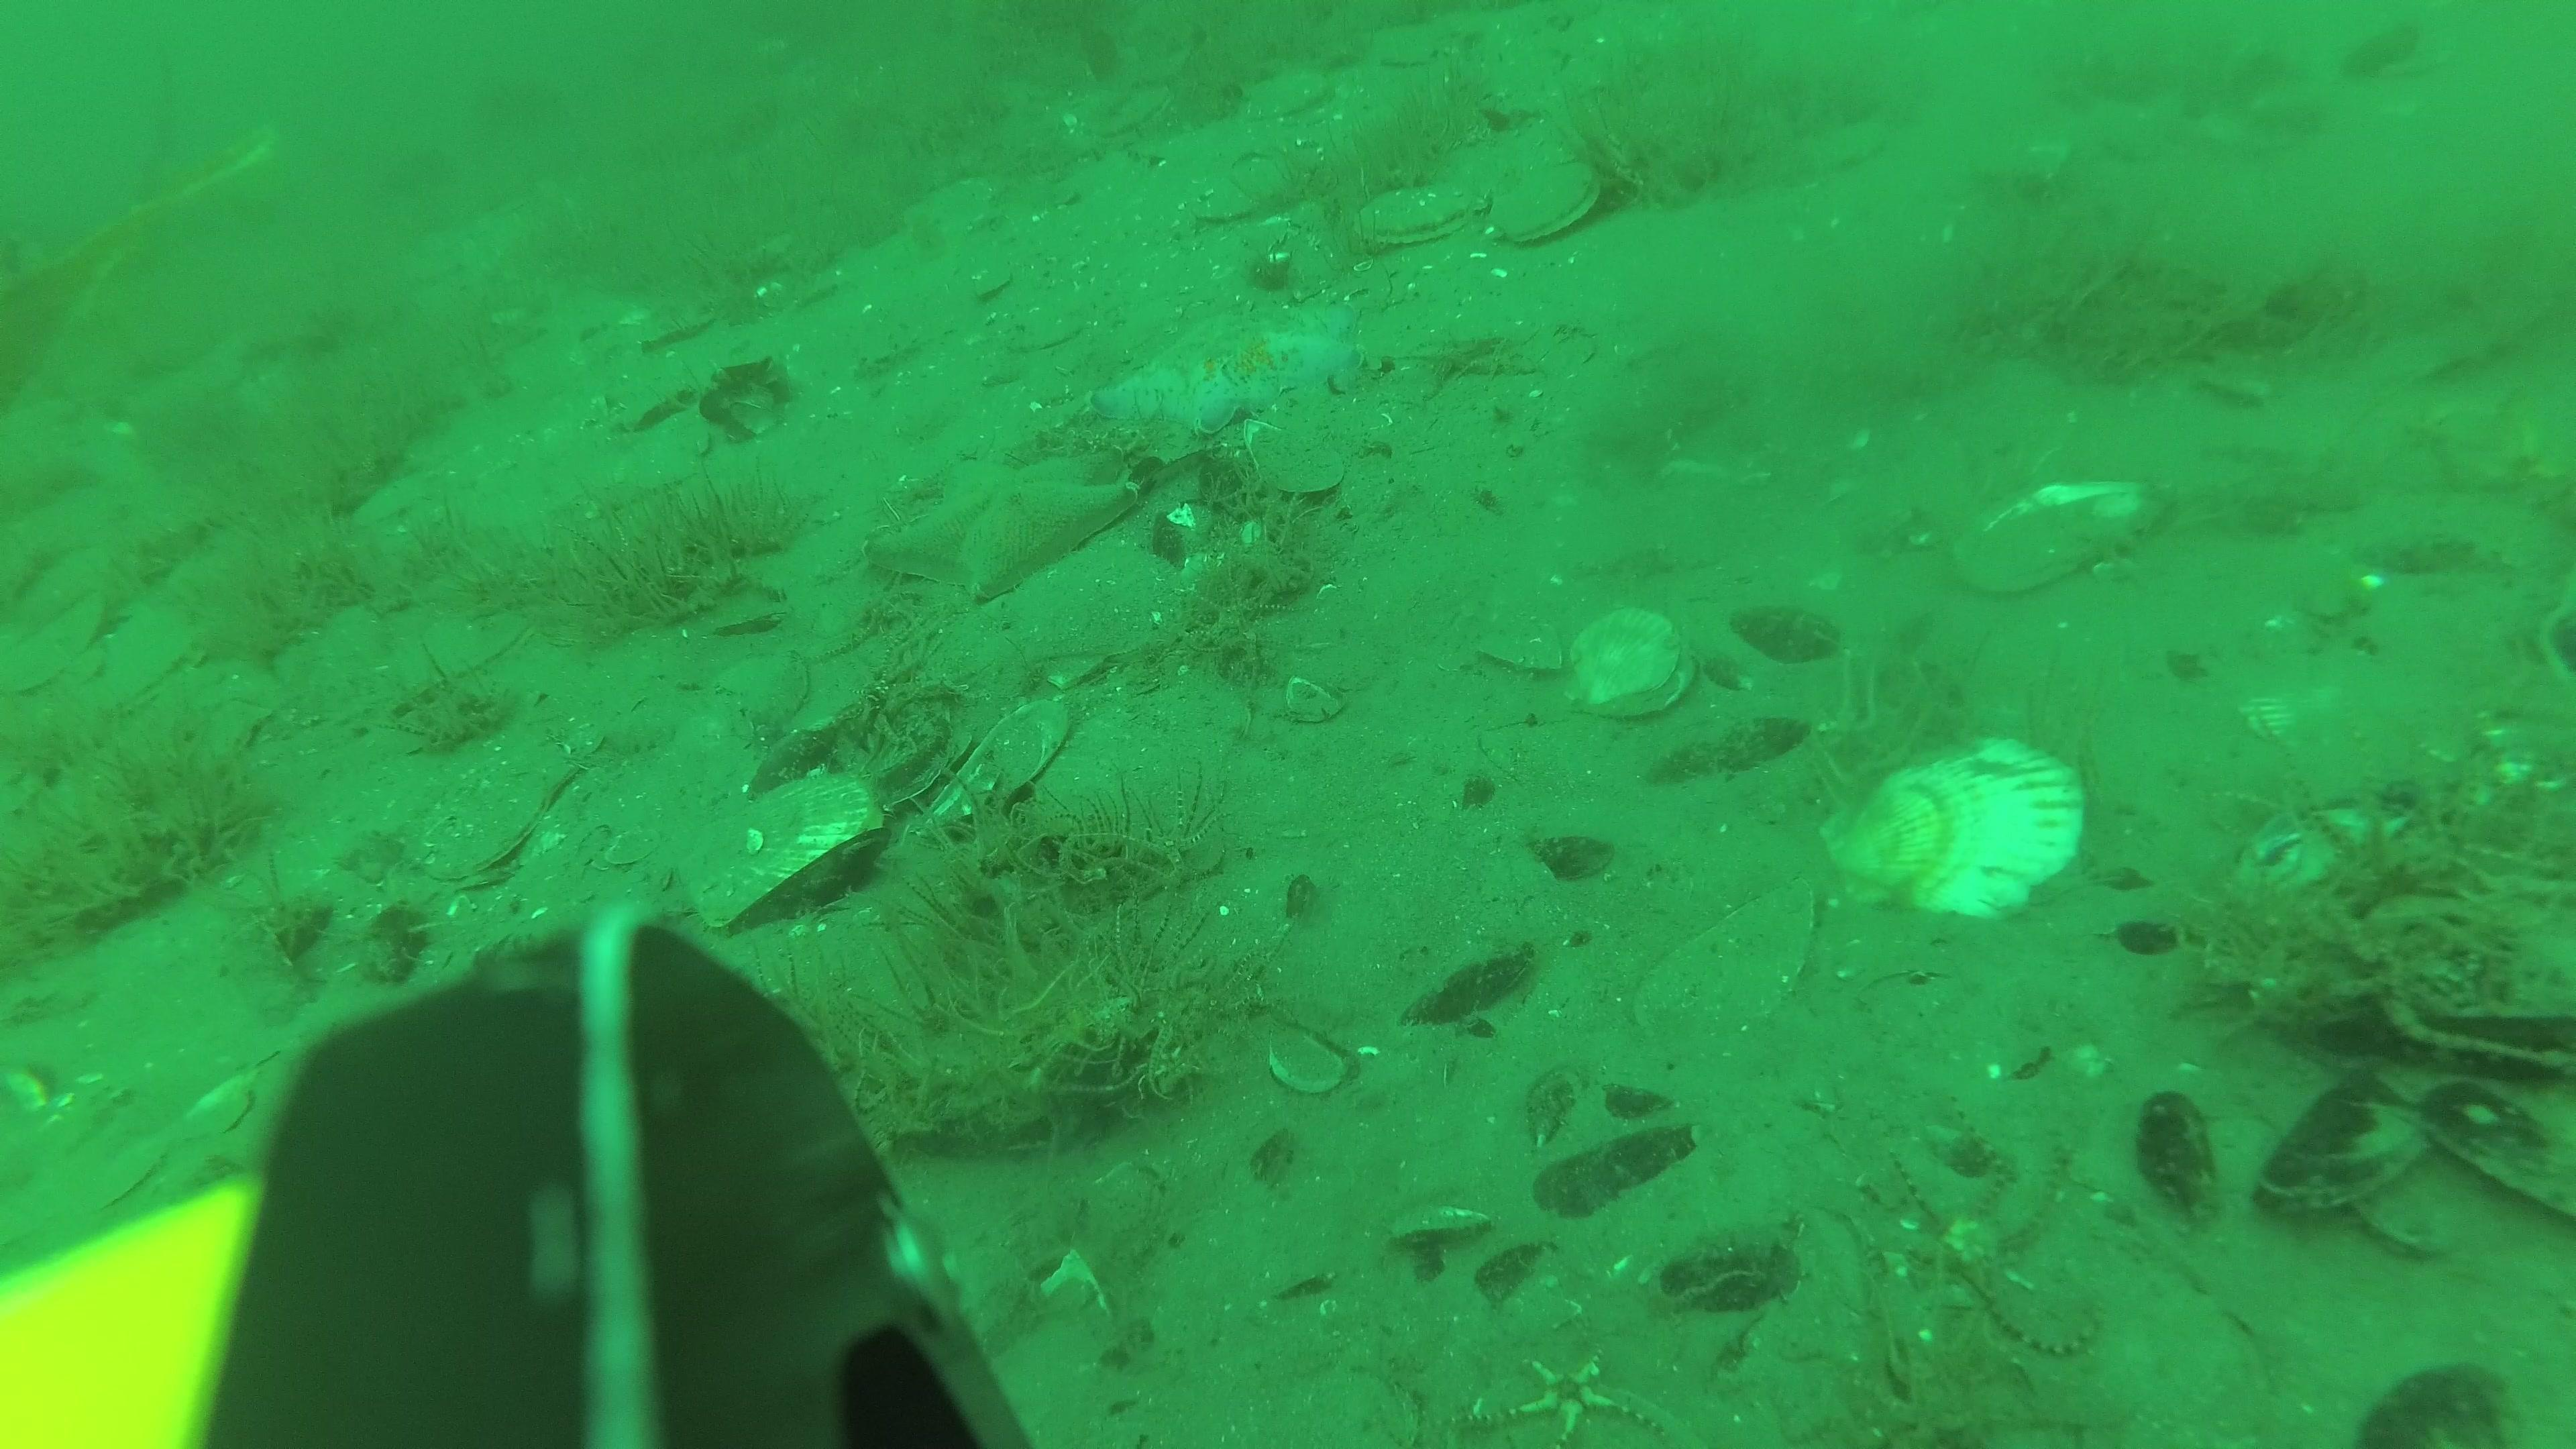scallop: (1821, 738, 2084, 915), (686, 777, 872, 927), (1951, 481, 2157, 593), (414, 761, 540, 885), (1552, 607, 1688, 713), (1491, 159, 1610, 241), (1352, 180, 1465, 235)
starfish: (876, 441, 1132, 596), (1083, 294, 1364, 426)
